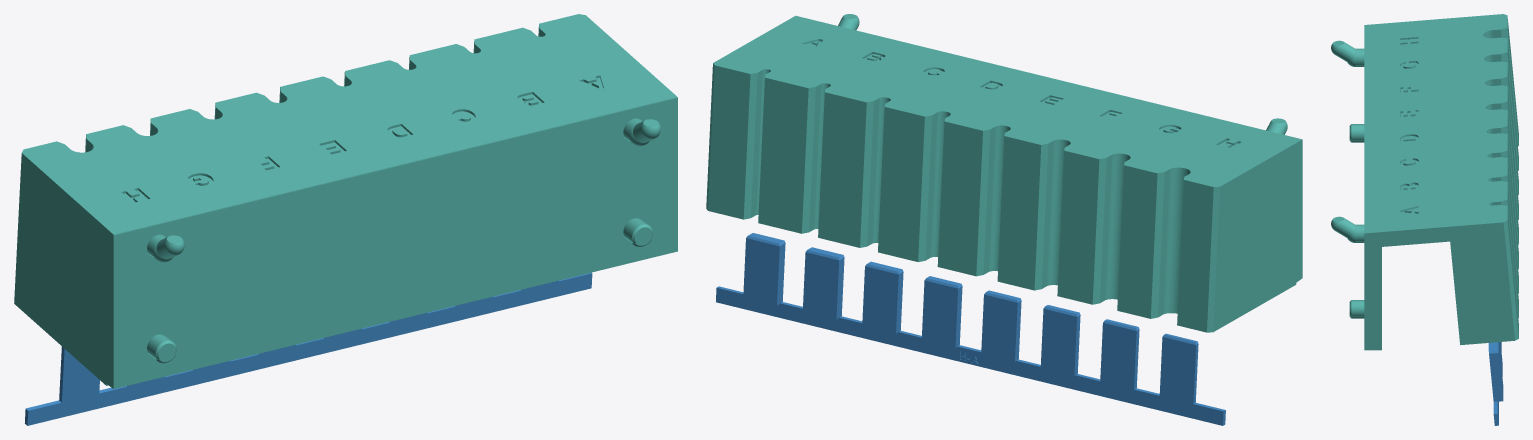
File: part-ms01-retaining-comb__v1__exploded.glb
3 renders of one model, left to right at view 1: azimuth 30°, elevation 25°; view 2: azimuth 150°, elevation 25°; view 3: azimuth 270°, elevation 25°, orthographic. The views are drawn at different scales.
Parts seen in each view (by area): view 1: Actual holder mesh, Reusable comb; view 2: Actual holder mesh, Reusable comb; view 3: Actual holder mesh, Reusable comb.
Boxes of the visible parts, x1,y1,x2,y2 form: Actual holder mesh: (14, 14, 677, 388); Reusable comb: (25, 272, 592, 425); Actual holder mesh: (706, 14, 1302, 332); Reusable comb: (716, 233, 1225, 425); Actual holder mesh: (1331, 14, 1518, 350); Reusable comb: (1488, 342, 1503, 425).
Bounding box in the file's own units: 0.1504 × 0.0686 × 0.0573.
